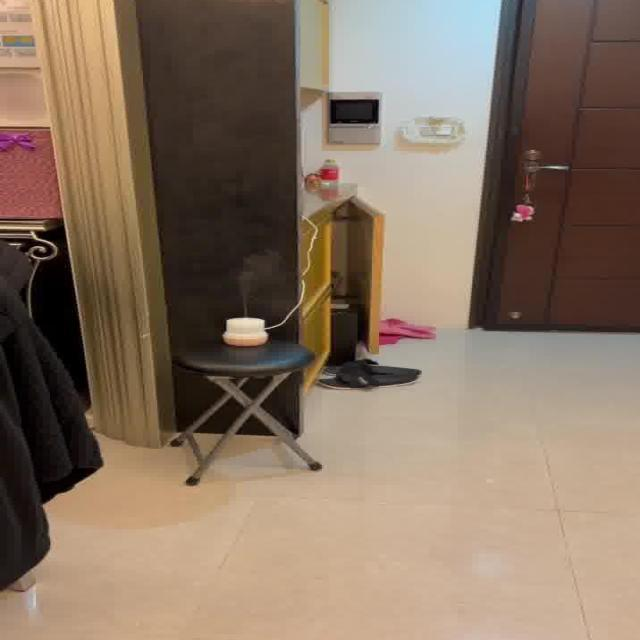fire: (230, 250, 279, 312)
